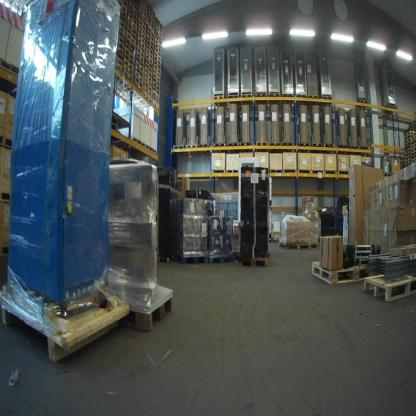pallet: (1, 285, 129, 365), (119, 269, 179, 338), (306, 255, 376, 288), (362, 268, 415, 308), (108, 68, 134, 97), (176, 243, 210, 265), (238, 251, 276, 269), (126, 136, 157, 158), (209, 248, 238, 271), (1, 57, 24, 81), (118, 78, 143, 100), (124, 94, 152, 107), (306, 91, 320, 112), (171, 142, 187, 160), (281, 92, 295, 112), (383, 102, 398, 120), (283, 241, 312, 250), (213, 95, 231, 109), (268, 89, 281, 108), (186, 140, 201, 156), (255, 90, 267, 110), (335, 140, 351, 155), (145, 99, 160, 115), (198, 139, 212, 156), (111, 60, 123, 79), (214, 139, 227, 156), (294, 91, 307, 108), (228, 90, 240, 107), (322, 91, 332, 111), (239, 139, 253, 153), (239, 92, 253, 106), (3, 136, 15, 149), (1, 191, 13, 204), (227, 141, 239, 153), (256, 140, 269, 151), (310, 140, 323, 151), (281, 139, 296, 148), (269, 140, 282, 150), (348, 144, 361, 153), (298, 141, 312, 149), (403, 130, 416, 138), (324, 142, 333, 152), (381, 171, 392, 179), (2, 245, 9, 257), (404, 134, 414, 142), (359, 145, 372, 151)
